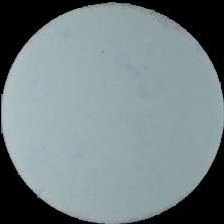54868-5005: (0, 0, 224, 224)
